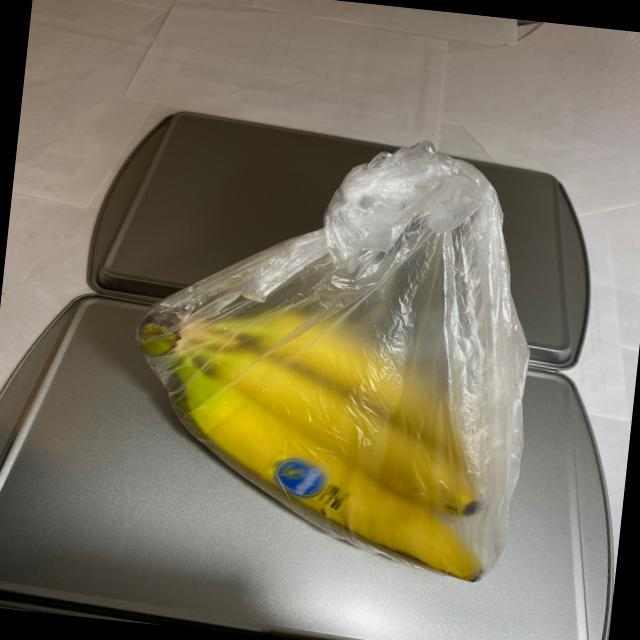banana: (84, 241, 548, 598)
